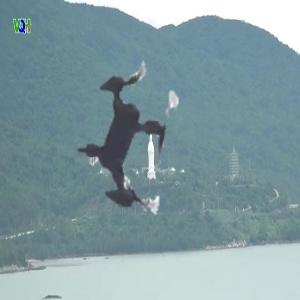drone: (11, 21, 241, 251)
